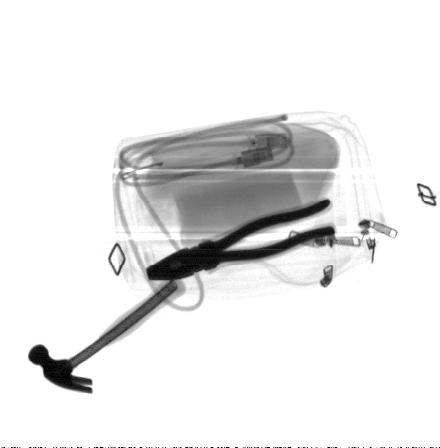Hammer: (27, 271, 189, 394)
Pliers: (148, 196, 336, 282)
